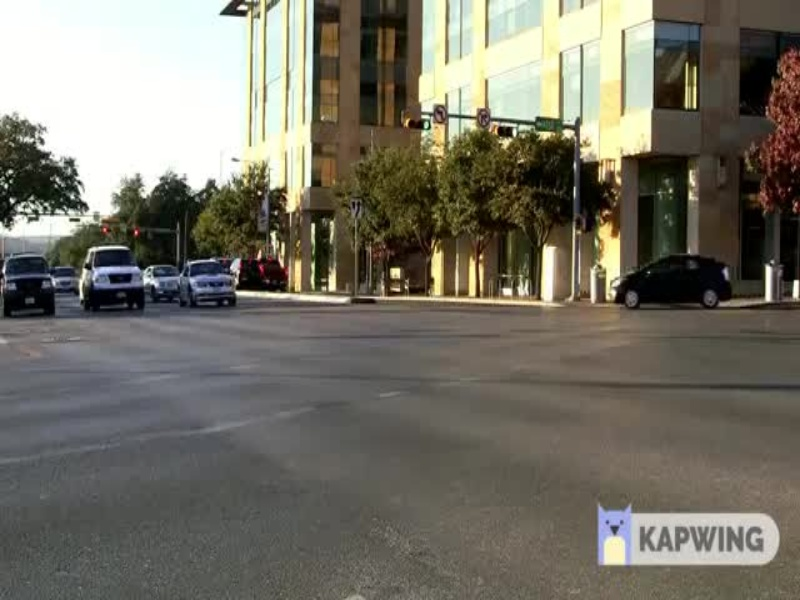car: (600, 251, 738, 316), (174, 259, 240, 310)
suv: (69, 244, 151, 318), (1, 254, 60, 318)
